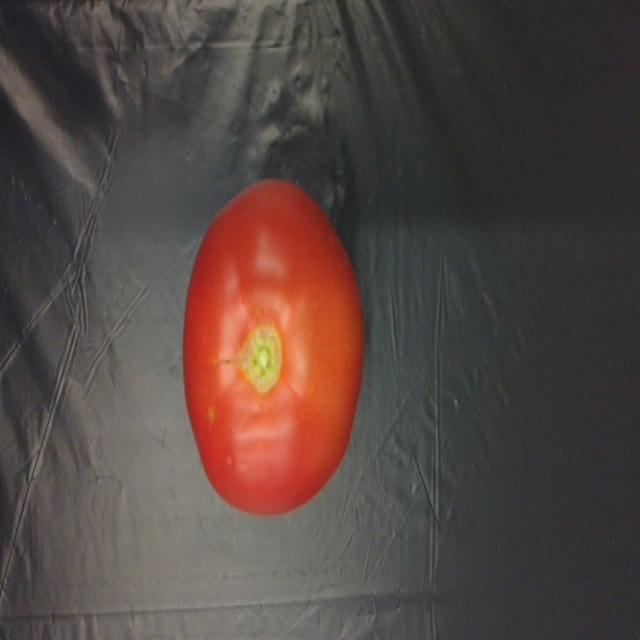kirmizi: (174, 170, 383, 518)
